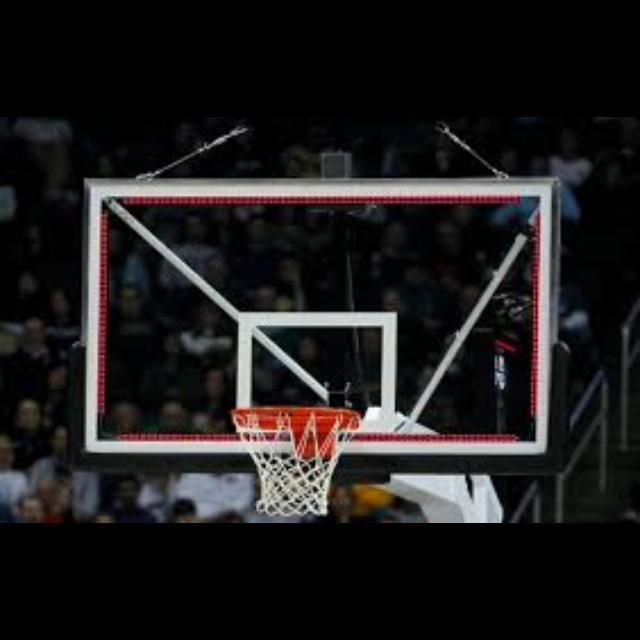rim: (233, 408, 357, 516)
